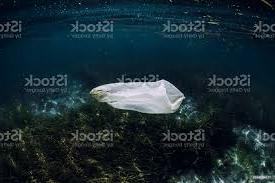Trash: (87, 72, 186, 116)
